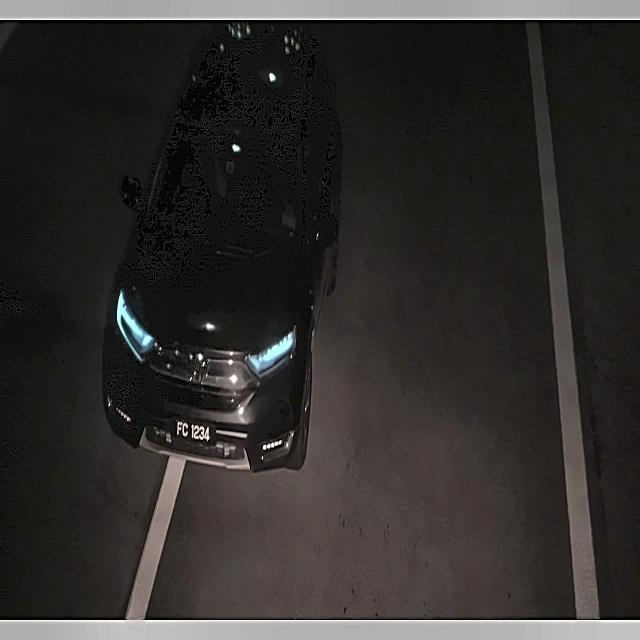car: (168, 416, 218, 450)
